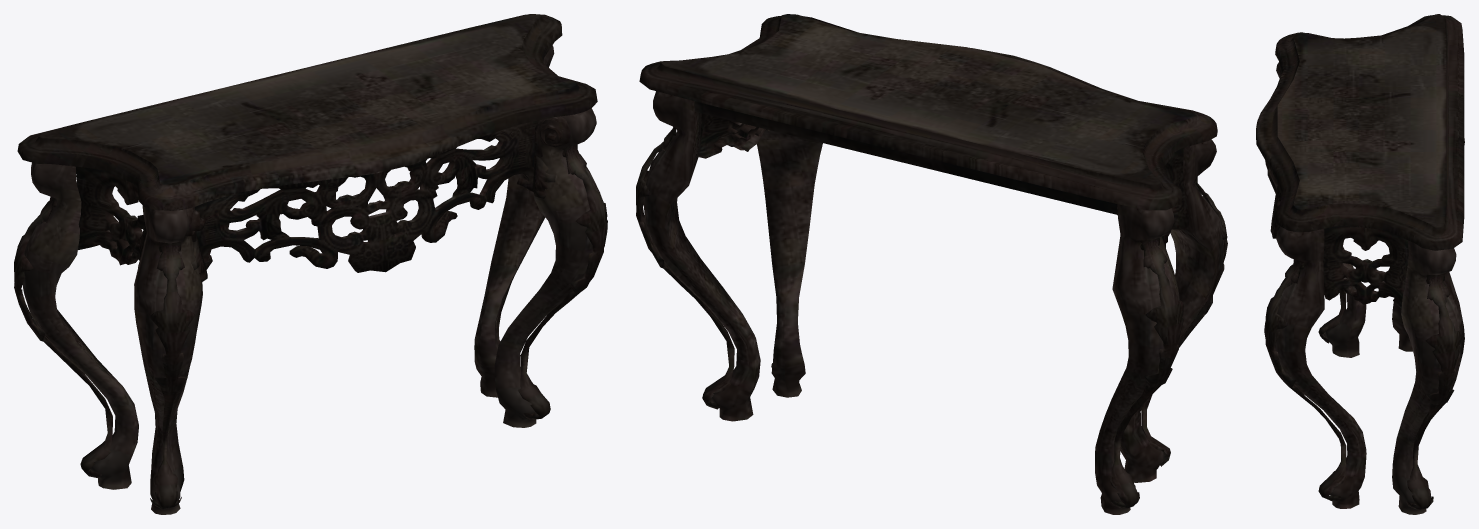
The model's file is tv_console.glb.
The picture shows the model from 3 angles, left to right: view 1: azimuth 30°, elevation 25°; view 2: azimuth 150°, elevation 25°; view 3: azimuth 270°, elevation 25°; orthographic projection. The views are drawn at different scales.
Visible parts, largest first — view 1: ClassicConsole_01; view 2: ClassicConsole_01; view 3: ClassicConsole_01.
Part boxes in pixels (x1,y1,x2,y2): ClassicConsole_01: (14, 14, 607, 514); ClassicConsole_01: (636, 14, 1227, 514); ClassicConsole_01: (1256, 14, 1464, 514).
Size of the model in its own units: 1.54 by 0.9491 by 0.5859.
1 material, 1 textured.
